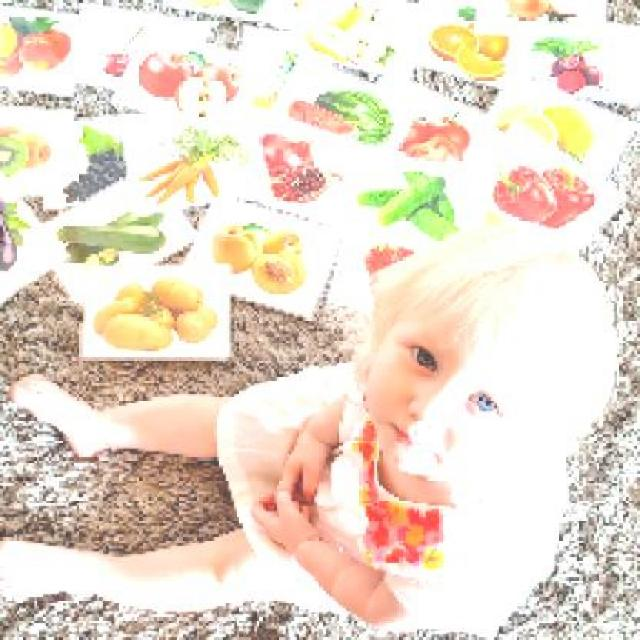child: (2, 222, 618, 638)
